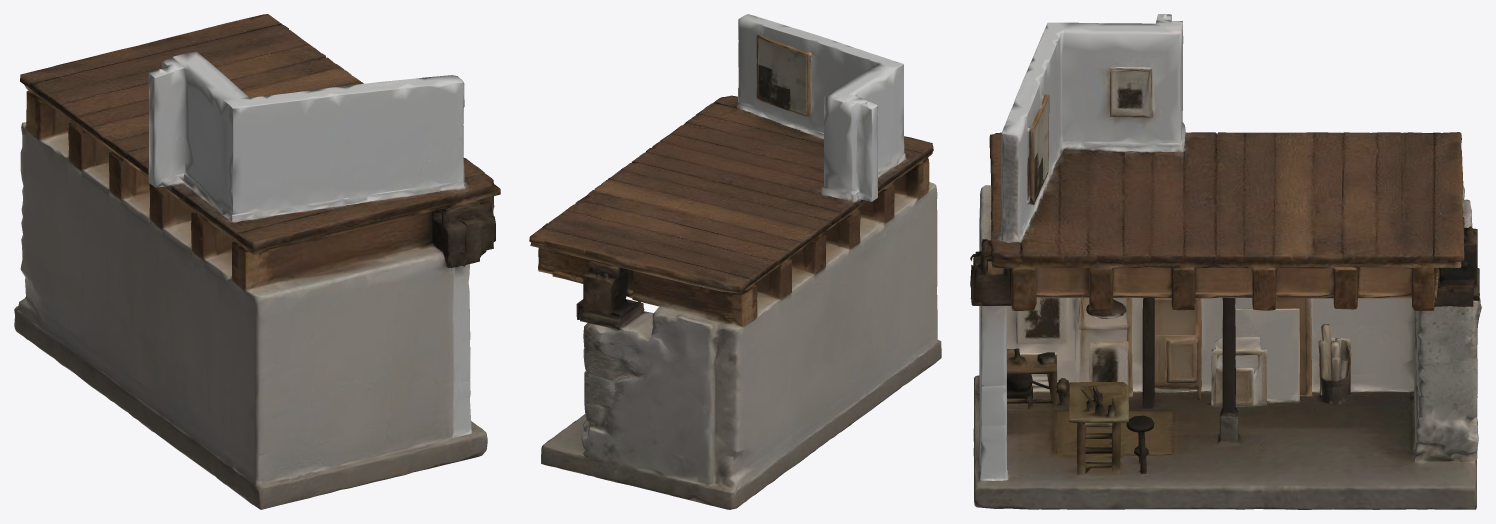
The model's file is ts_floormodel.glb.
The picture shows the model from 3 angles, left to right: view 1: azimuth 30°, elevation 25°; view 2: azimuth 150°, elevation 25°; view 3: azimuth 270°, elevation 25°; orthographic projection. The views are drawn at different scales.
Parts seen in each view (by area): view 1: tripo_node_61857ec3-19f9-4d6e-a6bc-7f5395fd1d8f; view 2: tripo_node_61857ec3-19f9-4d6e-a6bc-7f5395fd1d8f; view 3: tripo_node_61857ec3-19f9-4d6e-a6bc-7f5395fd1d8f.
Part boxes in pixels (box(x1,y1,x2,y2)): tripo_node_61857ec3-19f9-4d6e-a6bc-7f5395fd1d8f: box(14, 14, 500, 509); tripo_node_61857ec3-19f9-4d6e-a6bc-7f5395fd1d8f: box(529, 14, 941, 509); tripo_node_61857ec3-19f9-4d6e-a6bc-7f5395fd1d8f: box(970, 14, 1481, 509).
Bounding box in the file's own units: 0.6147 × 0.8227 × 1.
1 material, 1 textured.
